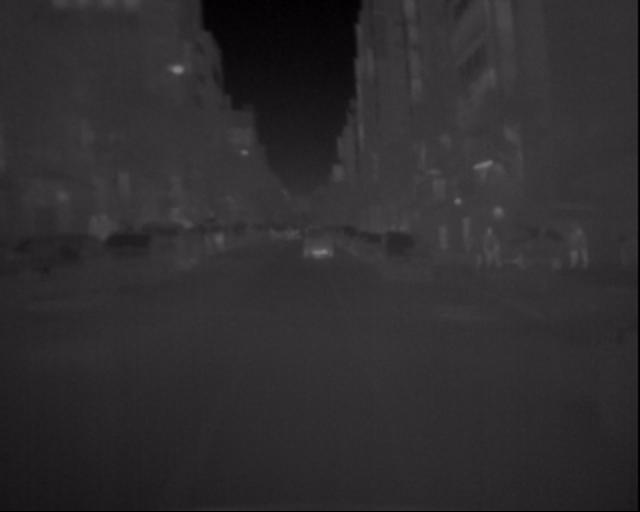person: (566, 223, 601, 276), (465, 218, 490, 275), (477, 221, 501, 277)
